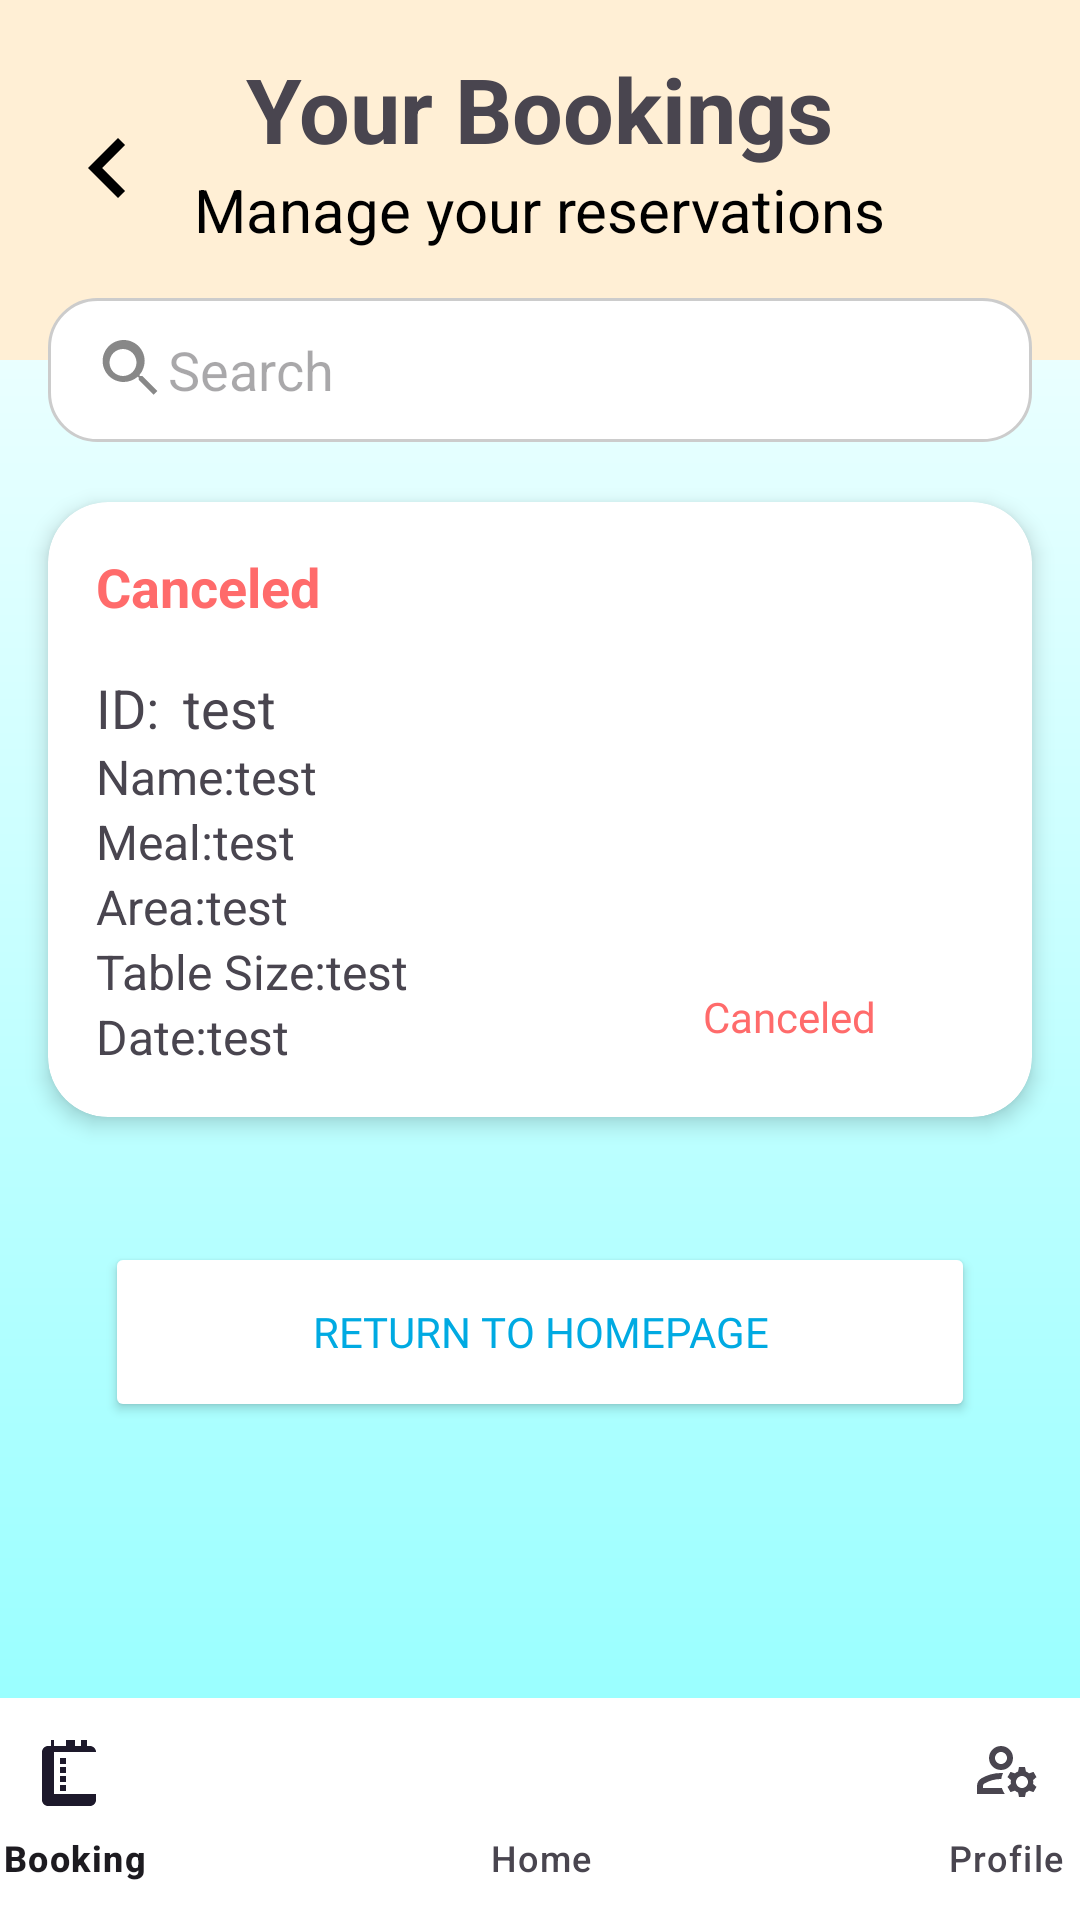

Icon click points for this 1080×1920 phone screenshot, format [x,y]:
Back Icon: [106,168]
